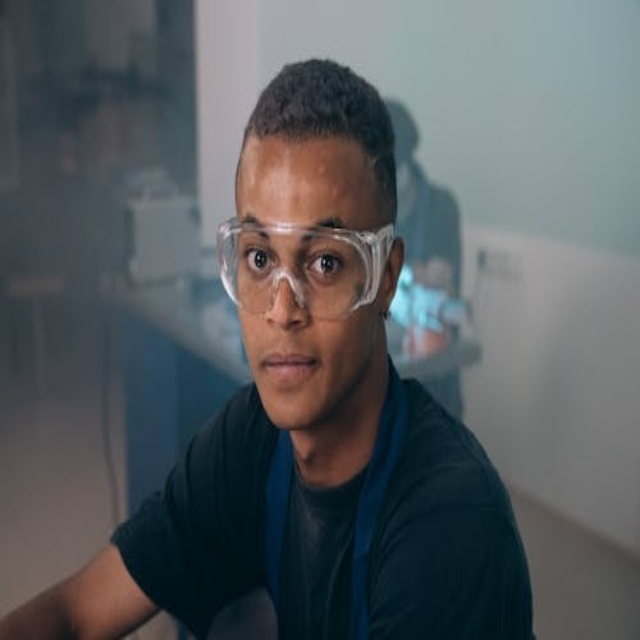Gafas: (216, 217, 395, 321)
Sin_mascara: (252, 338, 324, 425)
